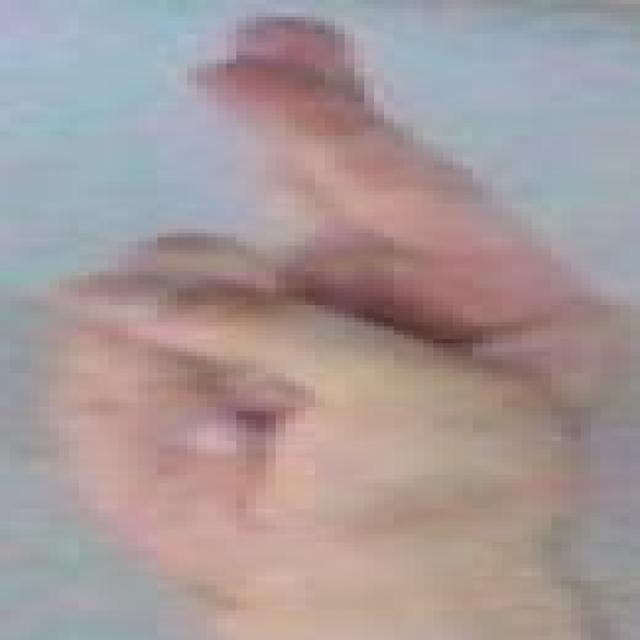R: (37, 2, 640, 640)
